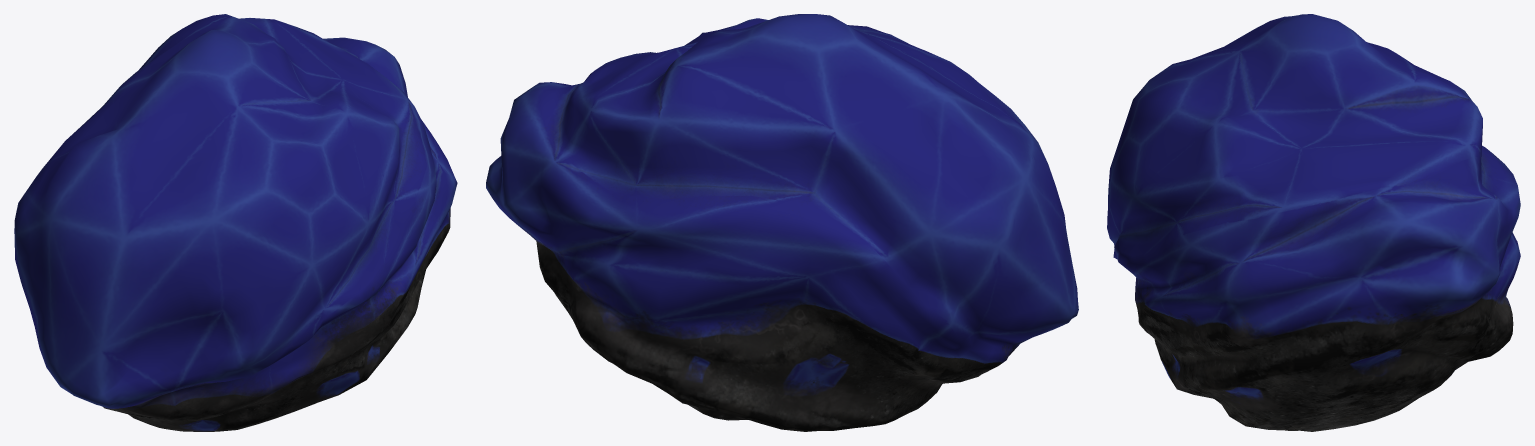
Rendered from phiras.glb.
The picture shows the model from 3 angles, left to right: view 1: azimuth 30°, elevation 25°; view 2: azimuth 150°, elevation 25°; view 3: azimuth 270°, elevation 25°; orthographic projection. The views are drawn at different scales.
Parts seen in each view (by area): view 1: Object_2; view 2: Object_2; view 3: Object_2.
Part boxes in pixels (x1,y1,x2,y2): Object_2: (14,14,457,431); Object_2: (486,14,1078,431); Object_2: (1107,14,1520,431).
Bounding box in the file's own units: 23.95 × 19.72 × 19.12.
1 material, 1 textured.
